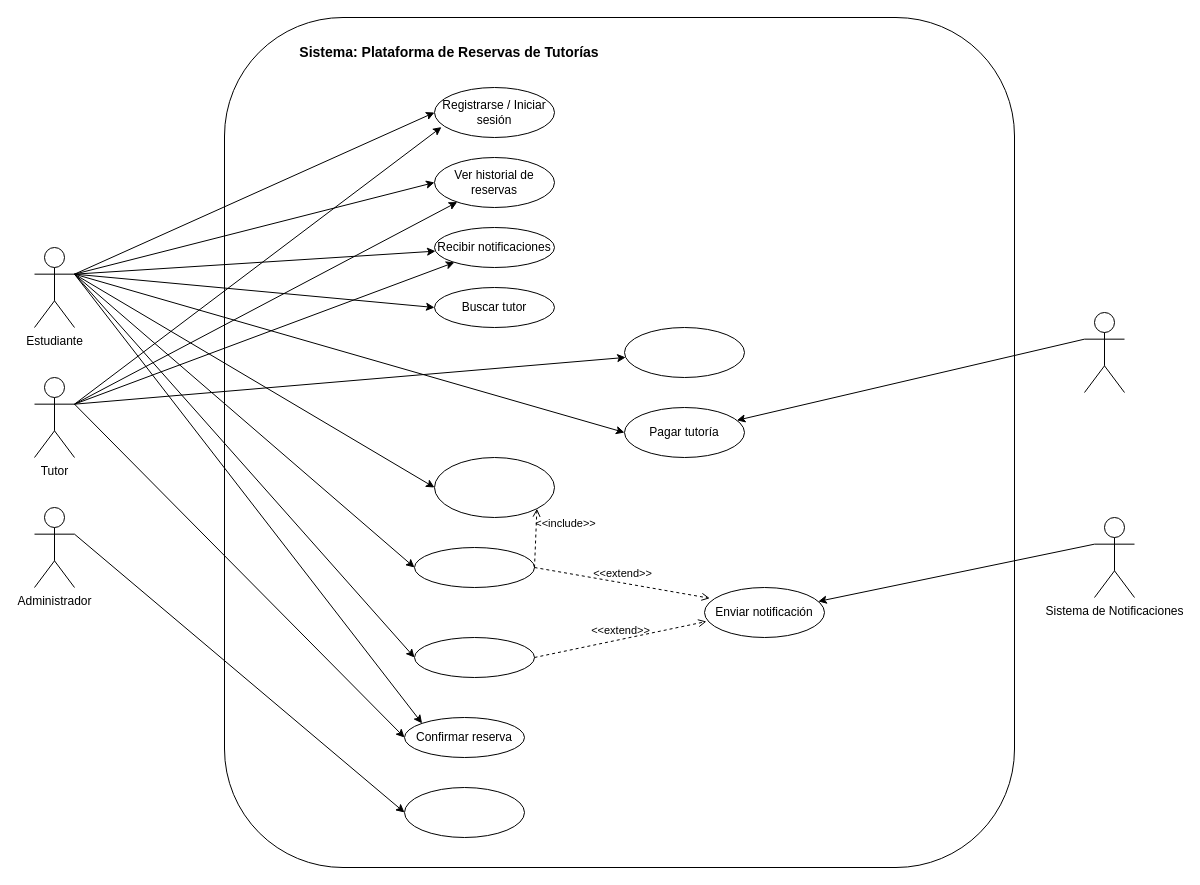
The diagram is 1200 pixels wide and 885 high, and some of its shapes have lost their labels. Each missing label, with the centre of its shape:
"Administrar usuarios" goes at point (464, 812).
"Cancelar reserva" goes at point (474, 657).
"Crear reserva" goes at point (474, 567).
"Gestionar disponibilidades" goes at point (684, 352).
"Pasarela de Pago" goes at point (1104, 352).
"Ver disponibilidad del tutor" goes at point (494, 487).
